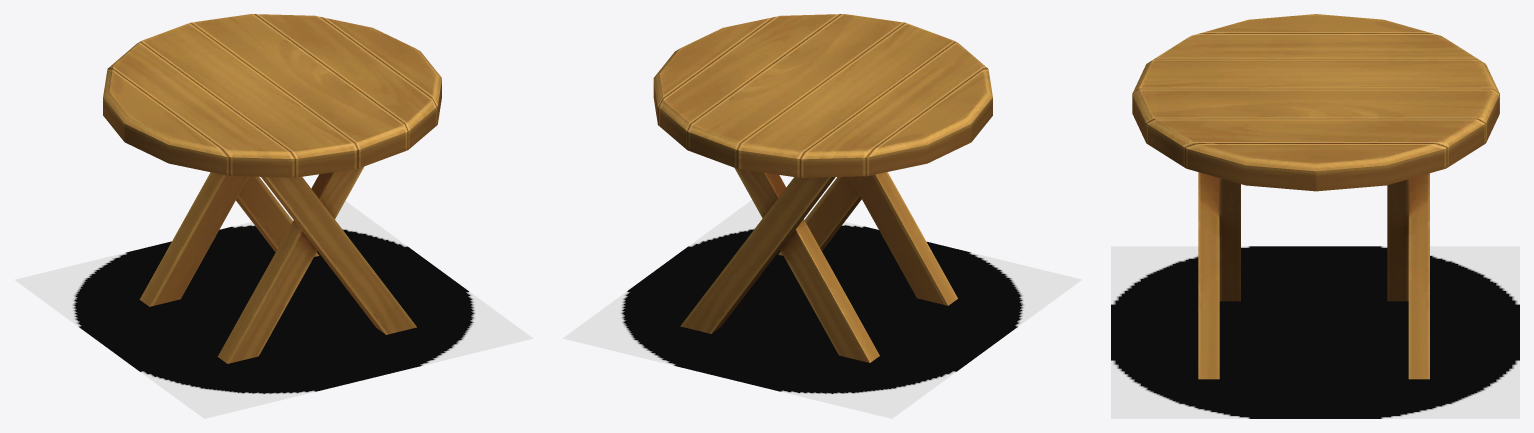
File: jj_ty_table05_01.FBX
3 renders of one model, left to right at view 1: azimuth 30°, elevation 25°; view 2: azimuth 150°, elevation 25°; view 3: azimuth 270°, elevation 25°, orthographic. The views are drawn at different scales.
Visible parts, largest first — view 1: jj_ty_table05_01, shadow; view 2: jj_ty_table05_01, shadow; view 3: jj_ty_table05_01, shadow.
Part boxes in pixels (x1=…): jj_ty_table05_01: x1=103, y1=14, x2=441, y2=363; shadow: x1=14, y1=201, x2=533, y2=418; jj_ty_table05_01: x1=653, y1=14, x2=992, y2=362; shadow: x1=563, y1=200, x2=1081, y2=418; jj_ty_table05_01: x1=1132, y1=14, x2=1499, y2=379; shadow: x1=1111, y1=246, x2=1519, y2=418.
Size of the model in its own units: 51.18 by 33.98 by 51.18.
